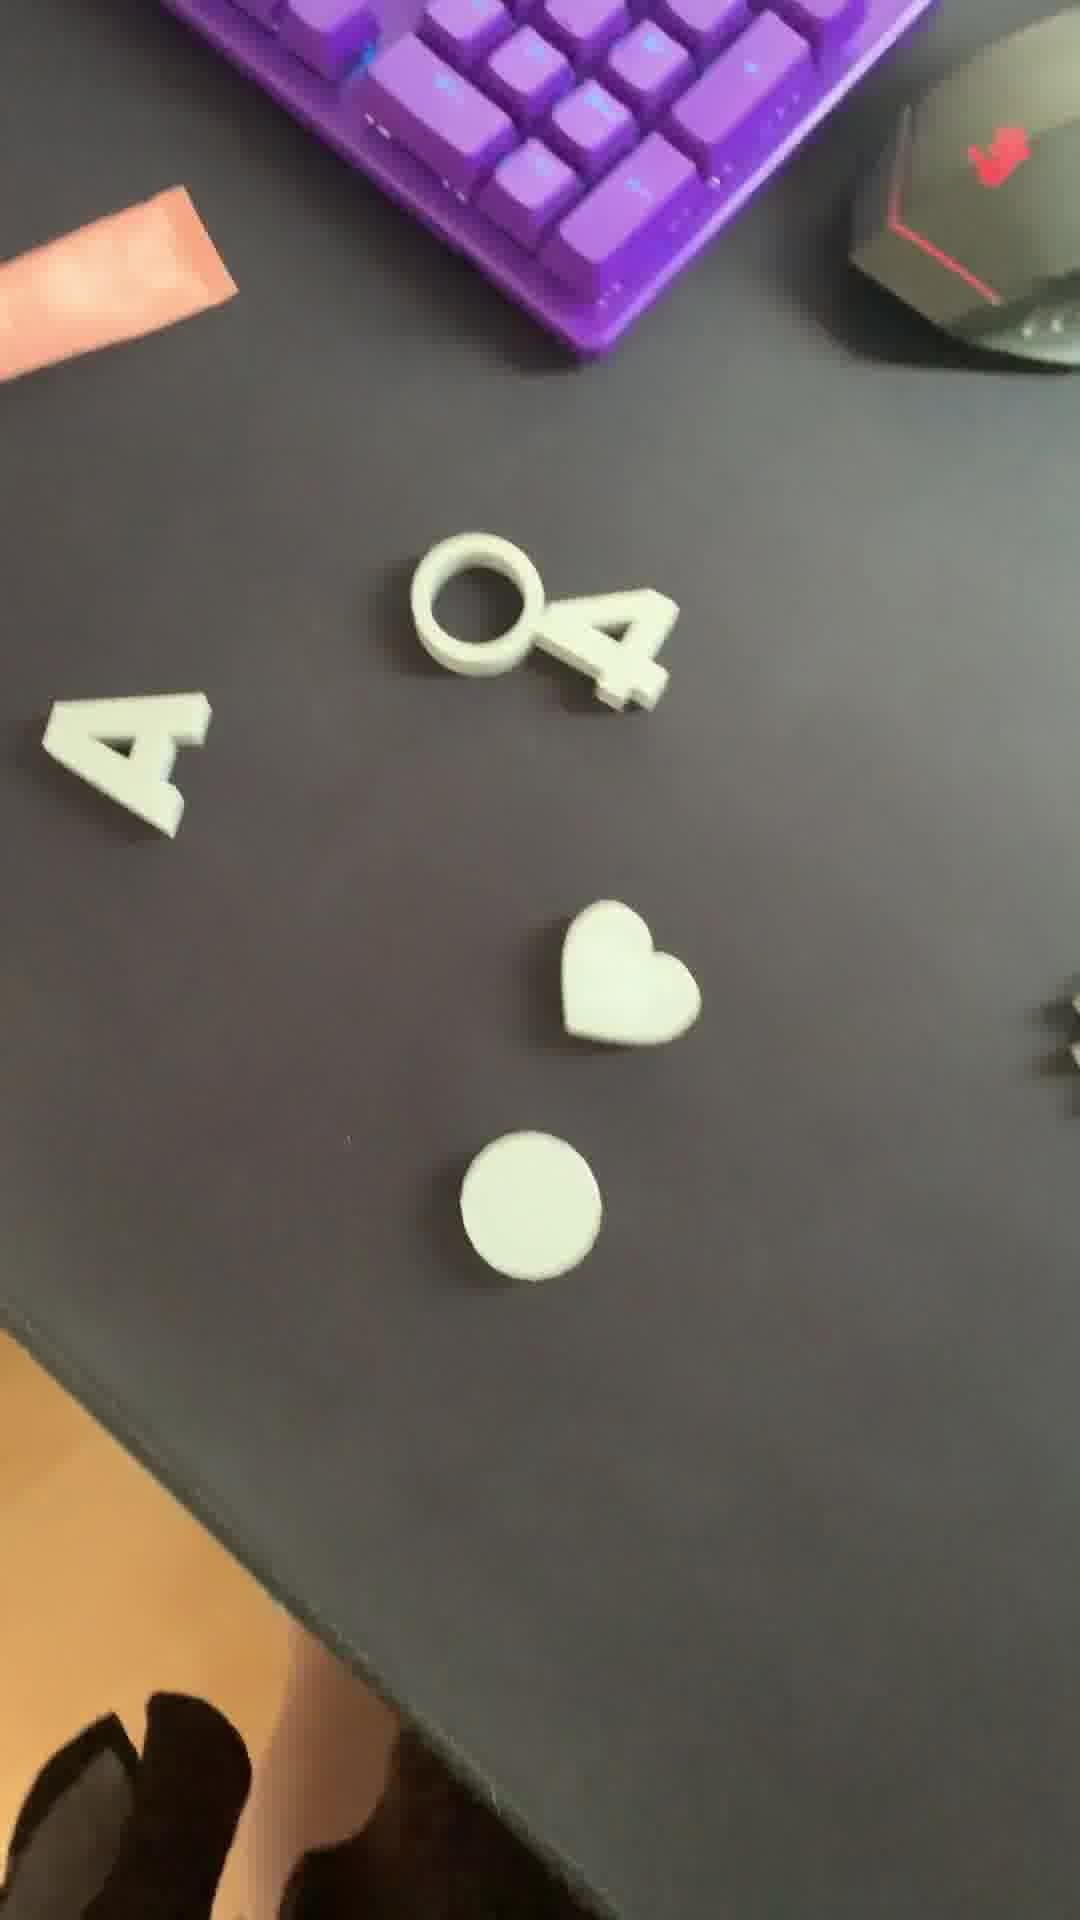Gray A-letter: (41, 683, 219, 829)
Gray circle: (464, 1124, 607, 1288)
Gray four: (516, 589, 680, 703)
Gray heart: (556, 897, 700, 1048)
Gray ring: (398, 531, 547, 679)
